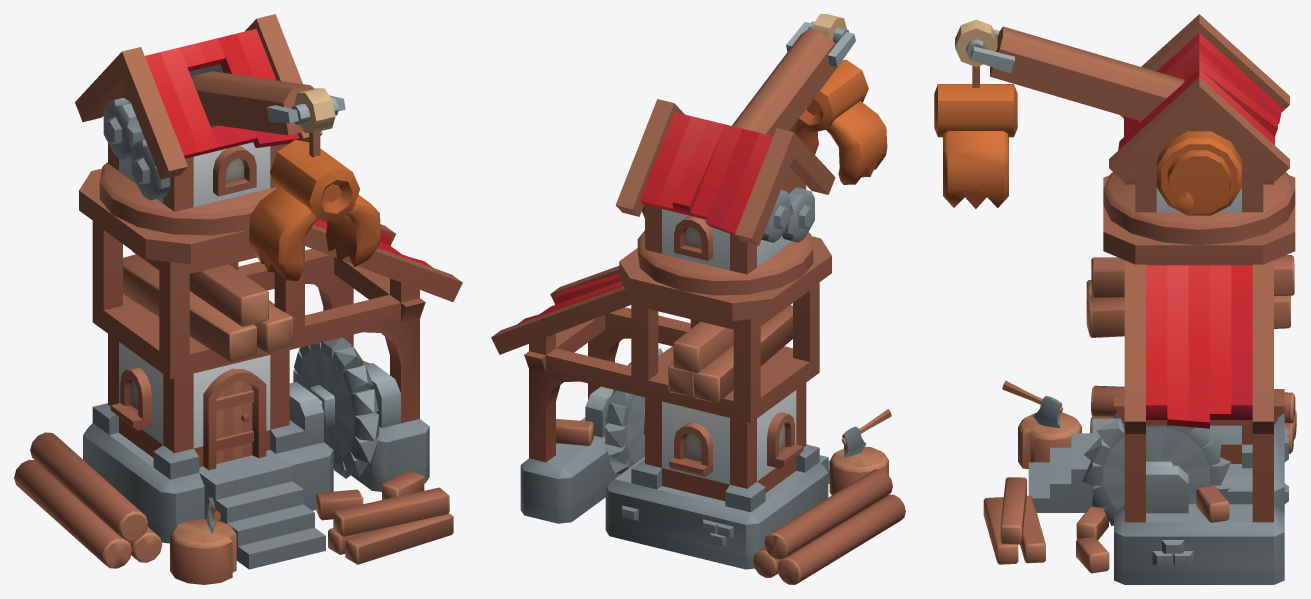
Rendered from building_lumbermill_red.gltf.
The picture shows the model from 3 angles, left to right: view 1: azimuth 30°, elevation 25°; view 2: azimuth 150°, elevation 25°; view 3: azimuth 270°, elevation 25°; orthographic projection. The views are drawn at different scales.
Visible parts, largest first — view 1: building_lumbermill_red, building_lumbermill_top_red, building_lumbermill_saw_red; view 2: building_lumbermill_red, building_lumbermill_top_red, building_lumbermill_saw_red; view 3: building_lumbermill_red, building_lumbermill_top_red, building_lumbermill_saw_red.
Part boxes in pixels (x1,y1,x2,y2): building_lumbermill_red: (14, 168, 462, 584); building_lumbermill_top_red: (75, 14, 380, 280); building_lumbermill_saw_red: (293, 337, 378, 478); building_lumbermill_red: (491, 236, 905, 584); building_lumbermill_top_red: (615, 14, 887, 295); building_lumbermill_saw_red: (605, 348, 662, 474); building_lumbermill_red: (983, 175, 1296, 584); building_lumbermill_top_red: (934, 14, 1295, 245); building_lumbermill_saw_red: (1082, 417, 1231, 525).
Bounding box in the file's own units: 1.37 × 1.71 × 1.19.
Materials: 1 (1 with a texture image).
